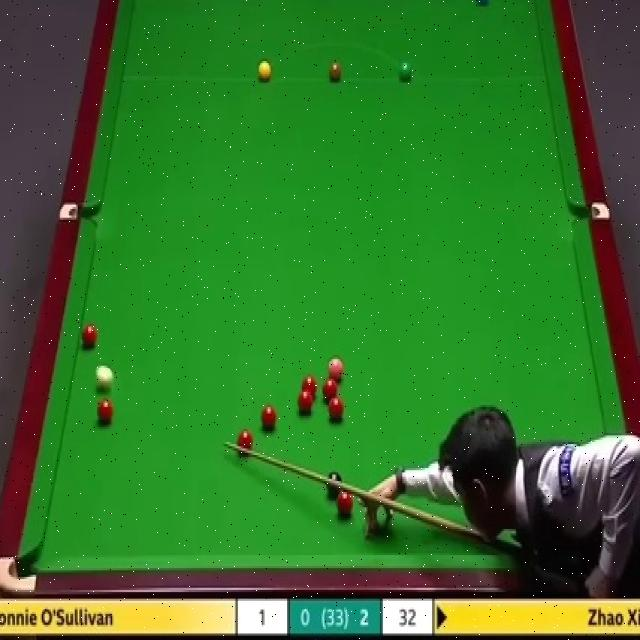black-ball: (325, 469, 343, 497)
blue-ball: (475, 0, 489, 9)
brown-ball: (329, 61, 343, 82)
green-ball: (398, 61, 413, 84)
pink-ball: (326, 356, 344, 382)
red-ball: (295, 389, 315, 420), (236, 428, 254, 456), (322, 378, 340, 403), (80, 324, 98, 349), (336, 490, 353, 516), (328, 397, 345, 423), (260, 404, 276, 431), (301, 375, 317, 401), (98, 399, 112, 424)
white-ball: (94, 364, 114, 389)
yellow-ball: (256, 61, 273, 82)
